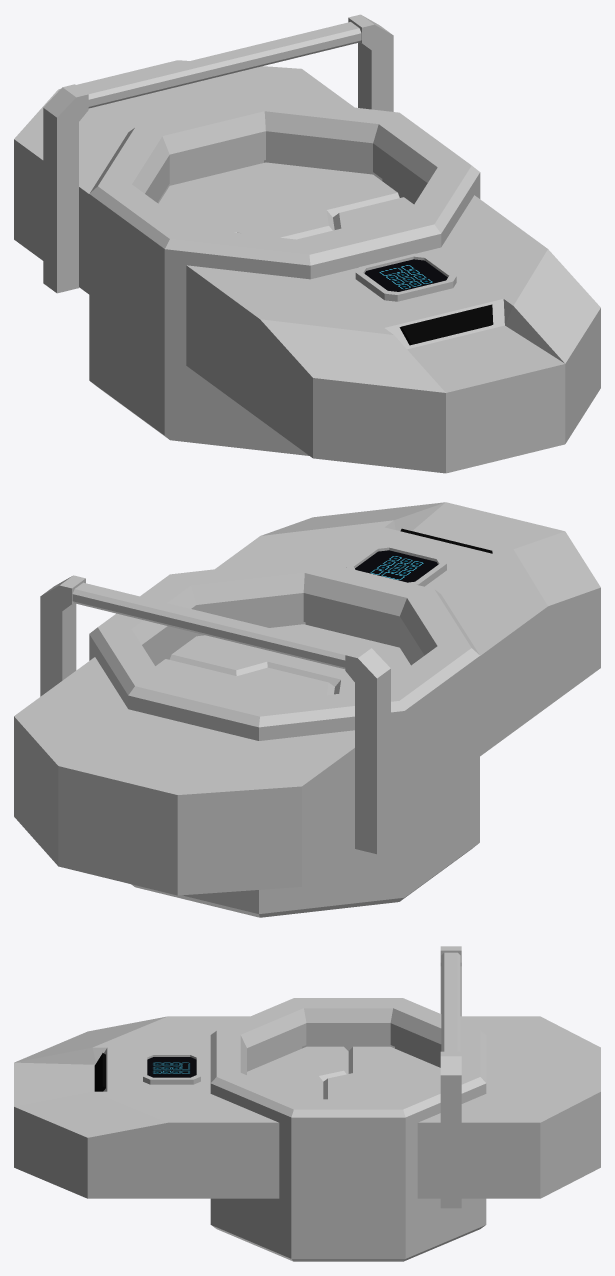
File: SM_Vent_1.fbx
3 views of the same model, one above another, from view 1: azimuth 30°, elevation 25°; view 2: azimuth 150°, elevation 25°; view 3: azimuth 270°, elevation 25° (orthographic). The views are drawn at different scales.
Visible parts, largest first — view 1: SM_Vent_1; view 2: SM_Vent_1; view 3: SM_Vent_1.
Boxes of the visible parts, x1,y1,x2,y2 form: SM_Vent_1: [14, 14, 600, 473]; SM_Vent_1: [14, 502, 600, 917]; SM_Vent_1: [14, 946, 600, 1261].
Size of the model in its own units: 116 by 89.57 by 232.
